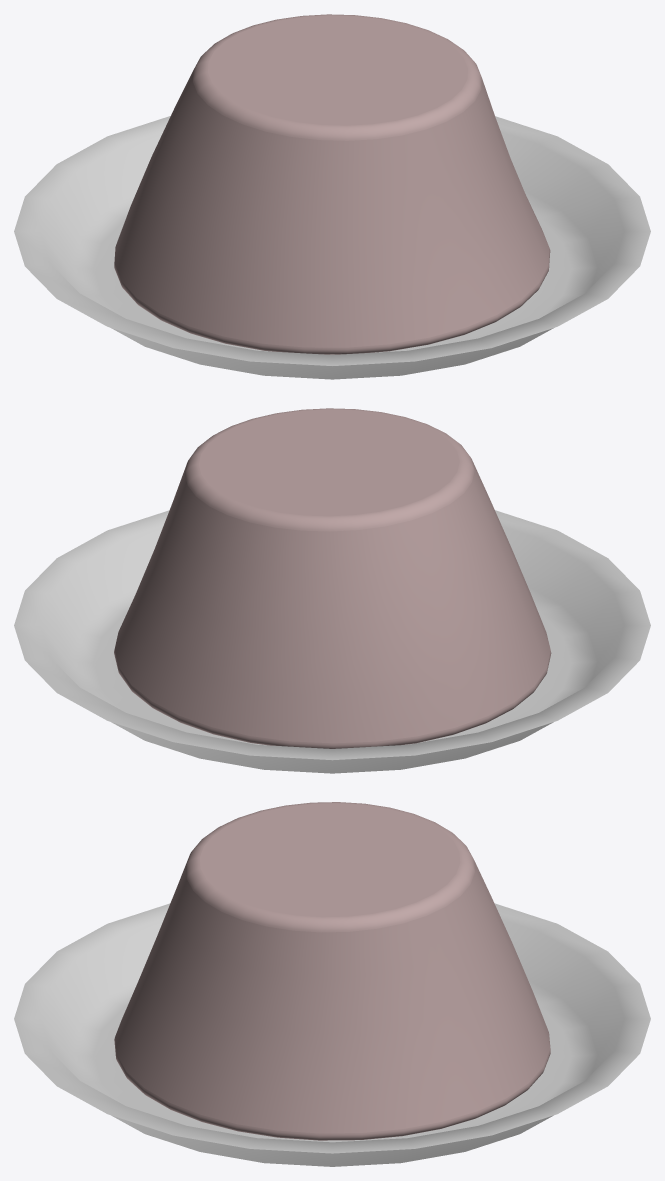
Rendered from cake.obj.
3 views of the same model, one above another, from view 1: azimuth 30°, elevation 25°; view 2: azimuth 150°, elevation 25°; view 3: azimuth 270°, elevation 25° (orthographic).
Parts seen in each view (by area): view 1: Pudding; view 2: Pudding; view 3: Pudding.
Boxes of the visible parts, x1,y1,x2,y2 form: Pudding: [14, 14, 650, 379]; Pudding: [14, 408, 650, 773]; Pudding: [14, 802, 650, 1166].
Bounding box in the file's own units: 7.44 × 2.58 × 7.44.
